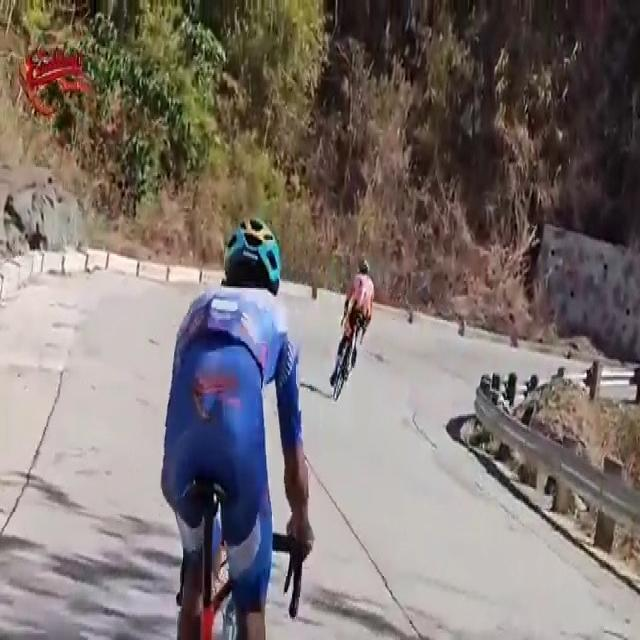bike: (160, 213, 314, 640), (326, 256, 378, 401)
